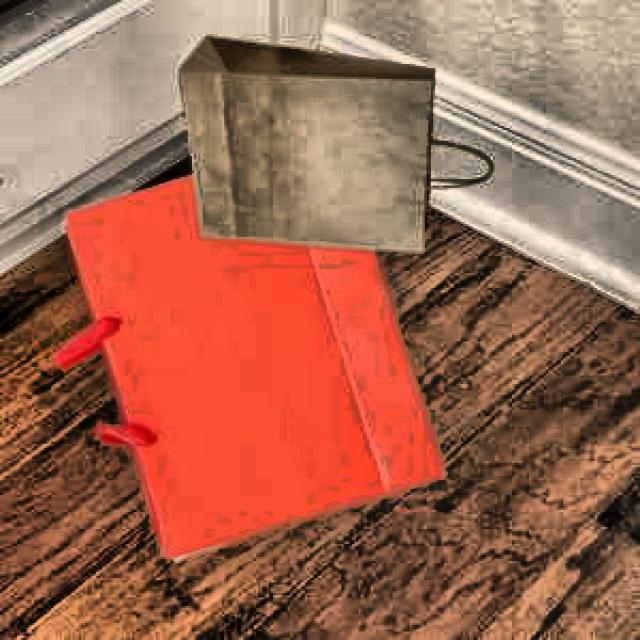Paper-bag: (48, 138, 443, 574), (170, 26, 500, 266)
